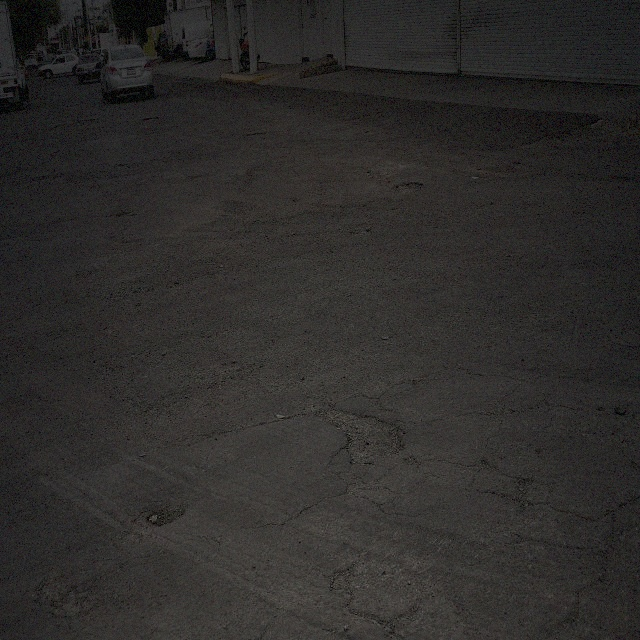pothole: (326, 402, 404, 470), (145, 499, 188, 531), (393, 175, 424, 195), (75, 117, 100, 128), (244, 128, 266, 139), (116, 208, 130, 222), (140, 115, 157, 125)
